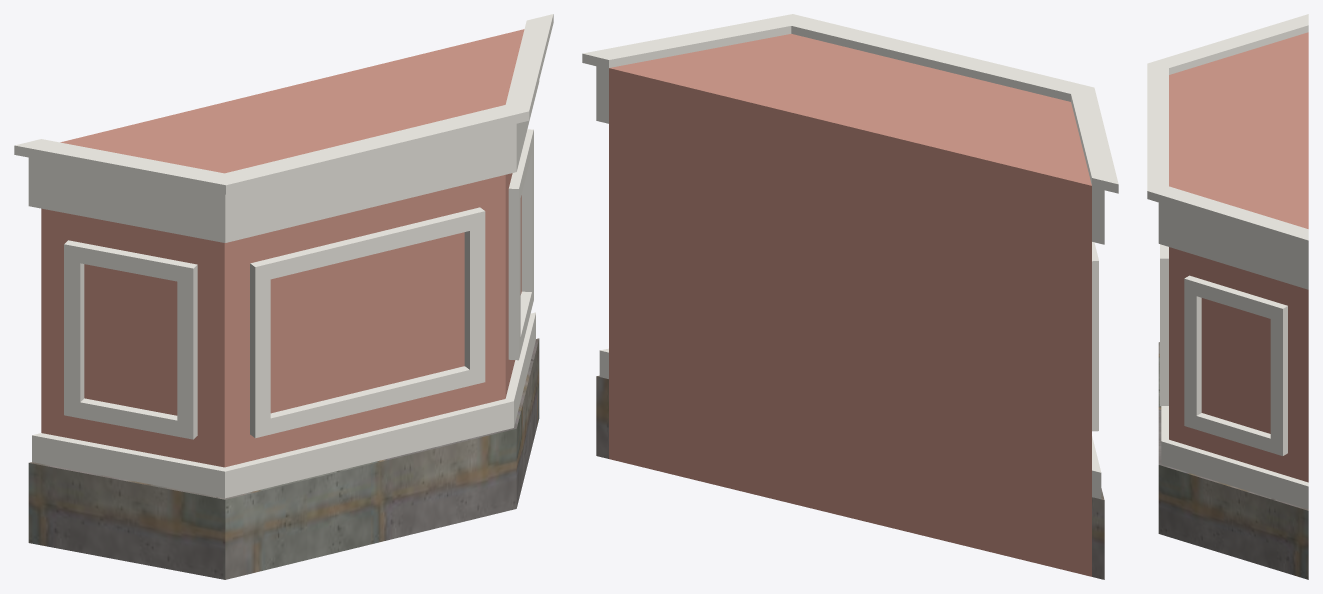
The model's file is bay_base_a.glb.
The picture shows the model from 3 angles, left to right: view 1: azimuth 30°, elevation 25°; view 2: azimuth 150°, elevation 25°; view 3: azimuth 270°, elevation 25°; orthographic projection. The views are drawn at different scales.
Visible parts, largest first — view 1: bay_base_a_acc_a, bay_base_a_trim, bay_base_a_plinth; view 2: bay_base_a_acc_a, bay_base_a_trim, bay_base_a_plinth; view 3: bay_base_a_acc_a, bay_base_a_trim, bay_base_a_plinth.
Boxes of the visible parts, x1,y1,x2,y2 form: bay_base_a_acc_a: (41,29,524,467); bay_base_a_trim: (14,14,553,498); bay_base_a_plinth: (28,338,539,579); bay_base_a_acc_a: (609,34,1091,576); bay_base_a_trim: (582,14,1118,499); bay_base_a_plinth: (596,375,1104,579); bay_base_a_acc_a: (1169,32,1308,482); bay_base_a_trim: (1147,14,1308,509); bay_base_a_plinth: (1158,342,1308,579).
Bounding box in the file's own units: 2.11 × 1.5 × 0.635.
3 materials, 1 textured.
